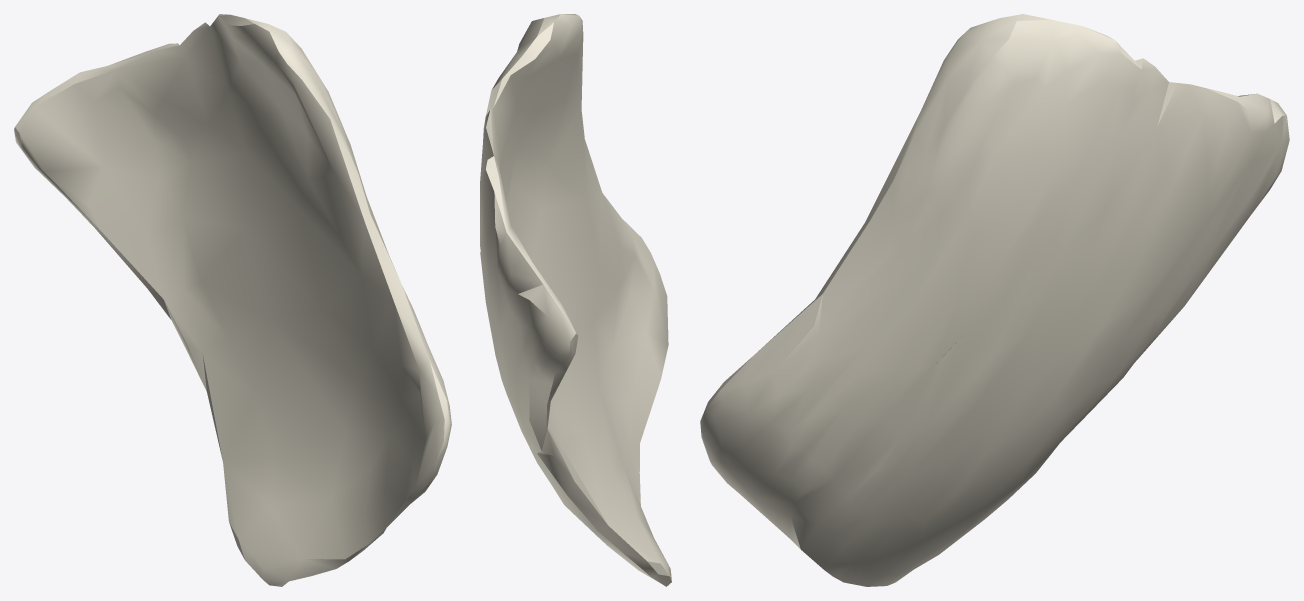
File: fma326807-l_mm1480.glb
3 views of the same model, side by side, from view 1: azimuth 30°, elevation 25°; view 2: azimuth 150°, elevation 25°; view 3: azimuth 270°, elevation 25° (orthographic). The views are drawn at different scales.
Parts seen in each view (by area): view 1: FMA326807-L_MM1480; view 2: FMA326807-L_MM1480; view 3: FMA326807-L_MM1480.
Part boxes in pixels (<box>): FMA326807-L_MM1480: <box>14,14,451,586</box>; FMA326807-L_MM1480: <box>480,14,671,586</box>; FMA326807-L_MM1480: <box>700,14,1289,586</box>.
Bounding box in the file's own units: 0.00372 × 0.00882 × 0.00796.
